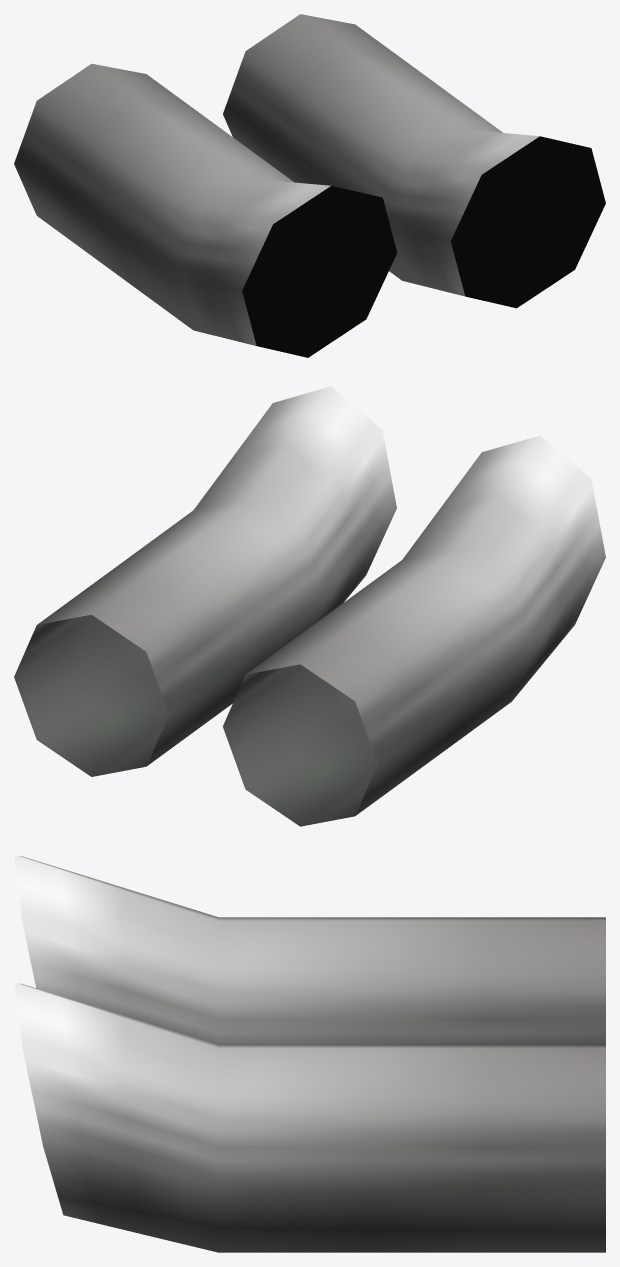
File: exh_b_ts.glb
The picture shows the model from 3 angles, top to bottom: view 1: azimuth 30°, elevation 25°; view 2: azimuth 150°, elevation 25°; view 3: azimuth 270°, elevation 25°; orthographic projection. The views are drawn at different scales.
Parts seen in each view (by area): view 1: exh_b_ts; view 2: exh_b_ts; view 3: exh_b_ts.
Part boxes in pixels (x1,y1,x2,y2): exh_b_ts: [14, 14, 605, 357]; exh_b_ts: [14, 386, 605, 826]; exh_b_ts: [14, 855, 605, 1252].
Size of the model in its own units: 0.2592 by 0.1477 by 0.2956.
Materials: 2 (2 with a texture image).
